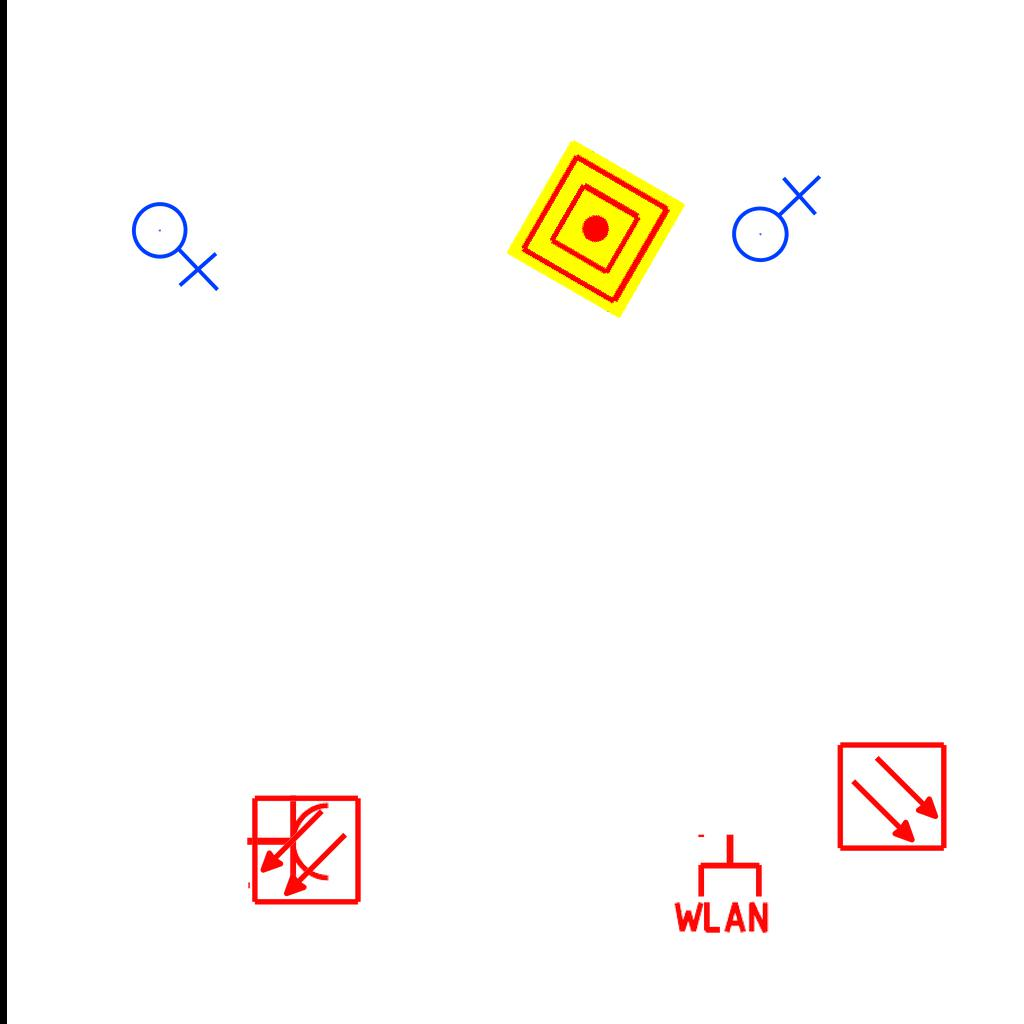Elektroanschluss_allgemein_230V_Geraeteanschlussdose_230V: (130, 193, 224, 292), (723, 170, 822, 264)
NAM-Nichtautomatischer_Melder: (505, 138, 687, 320)
RMO_Rauchmelder_optischer: (836, 740, 949, 853), (250, 794, 363, 907)
Schukosteckdose_einfach: (245, 793, 332, 893)
WLAN: (669, 830, 773, 935)
